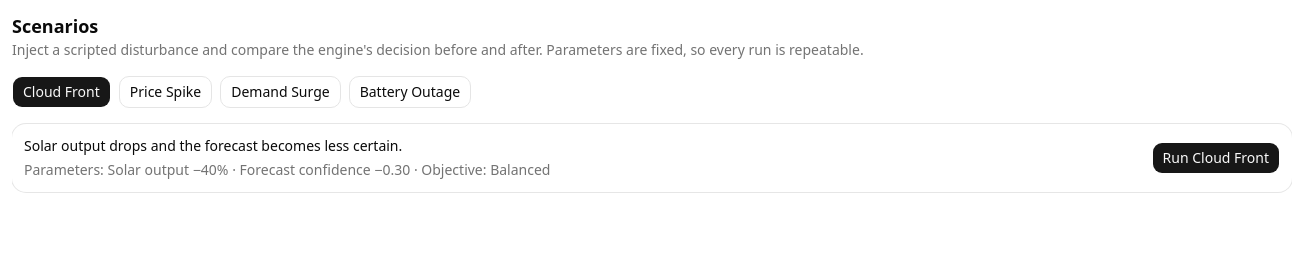
Test case: ScenarioPanel › shows the structured error when the scenario fails
This screenshot has width=1292, height=265.
Click the button "Run Cloud Front" at (1216, 158), box [1152,142,1280,174]
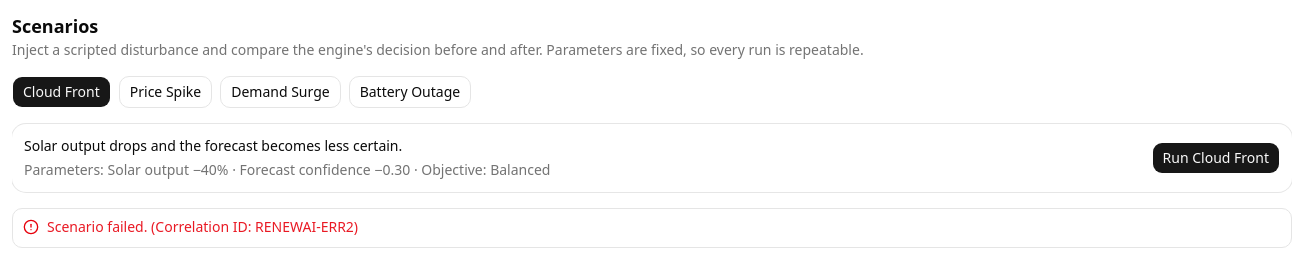
Expected: the message shows "RENEWAI-ERR2", [148,217,358,236]
